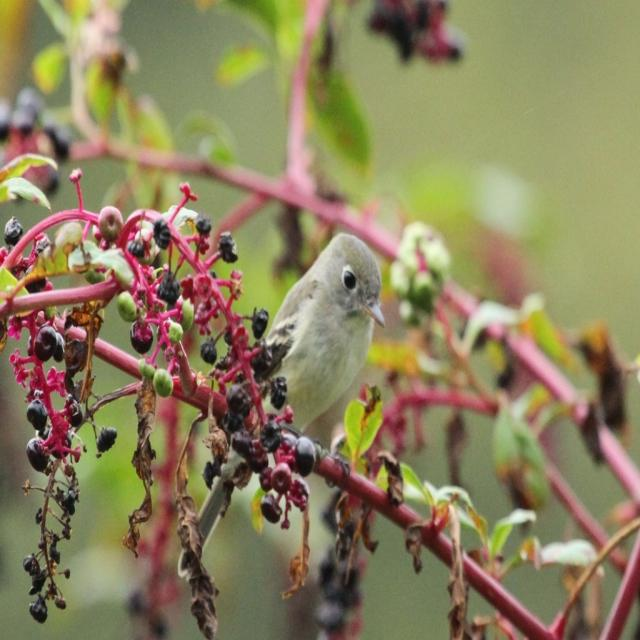bird: (172, 232, 388, 576)
